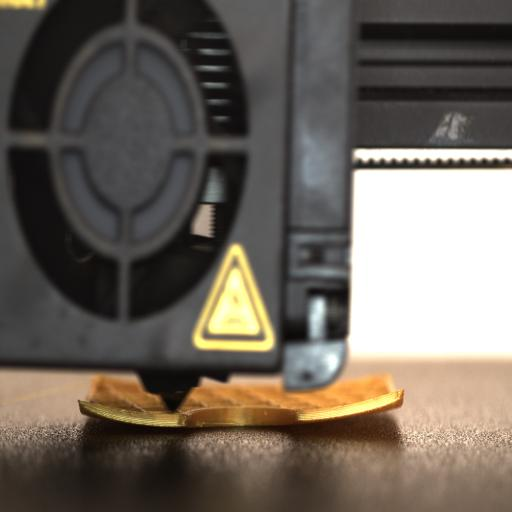warp: (302, 386, 404, 424), (76, 400, 186, 428)
